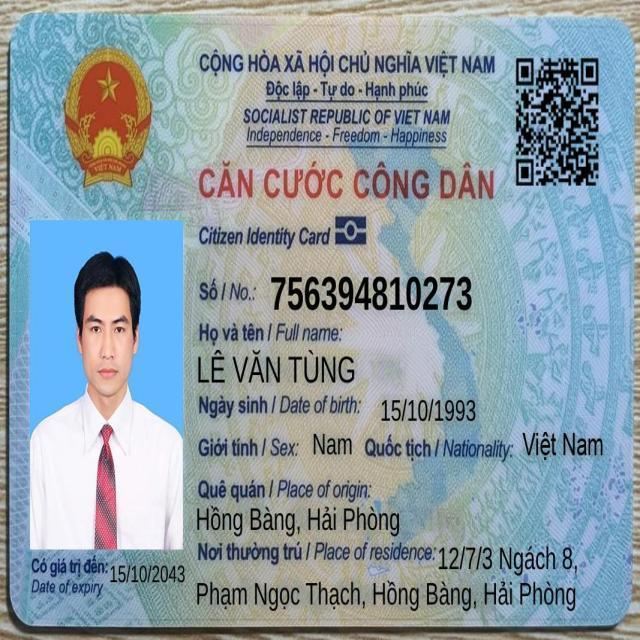current_place: (194, 577, 578, 614), (437, 544, 578, 578)
dob: (379, 395, 478, 426)
expire_date: (109, 562, 187, 586)
gender: (312, 430, 353, 460)
id: (268, 273, 474, 315)
name: (196, 347, 357, 388)
nationality: (521, 429, 605, 463)
origin_place: (195, 503, 401, 539)
